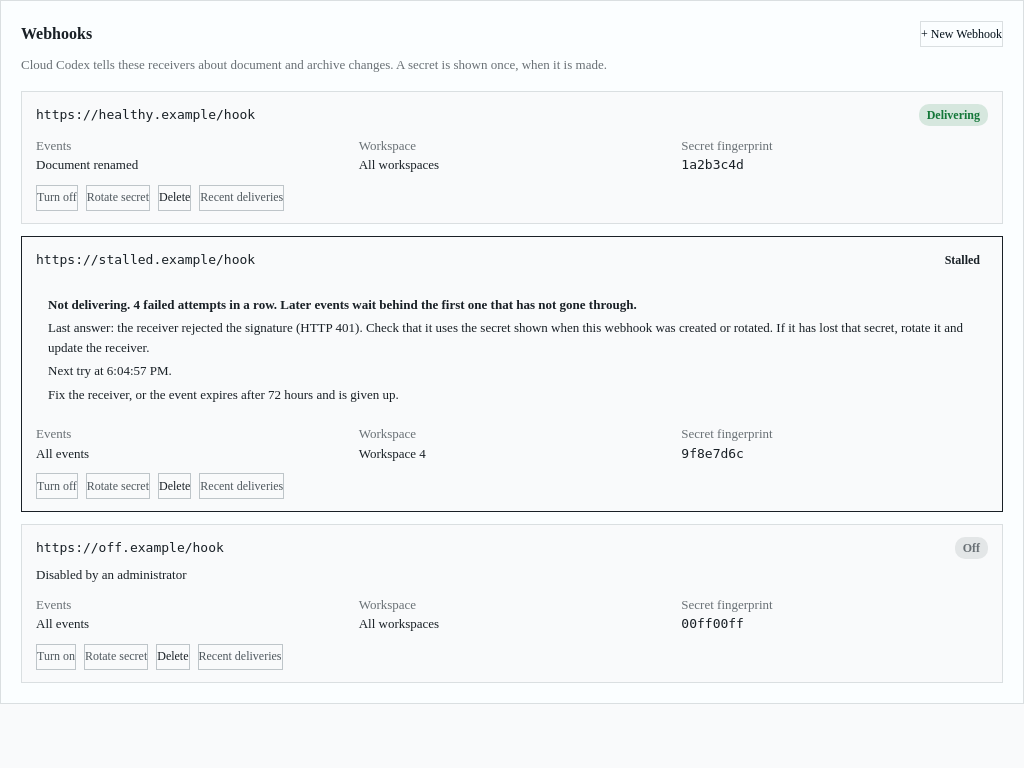
Test: WebhooksPanel: the server-decided expiry and the 404 path (W6-CDX-15 review) › pauses create and rotate while a secret is on screen, and resumes on Done
The width and height of the screenshot is (1024, 768).
Check: the text "https://healthy.example/hook" is shown, box [36,105,255,124]
Step 1. Click the button "+ New Webhook" → (962, 34), box [920,21,1003,47]
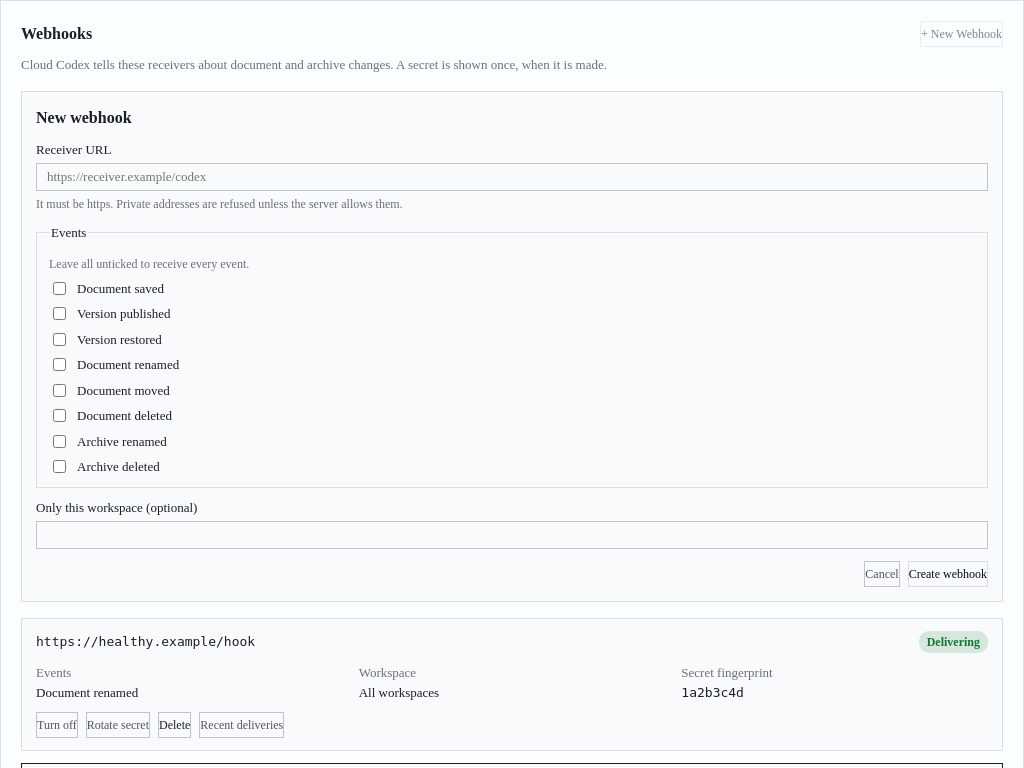
Step 2. Type "https://new.example/hook" into the field labelled "Receiver URL" → (512, 177), box [36,163,988,191]
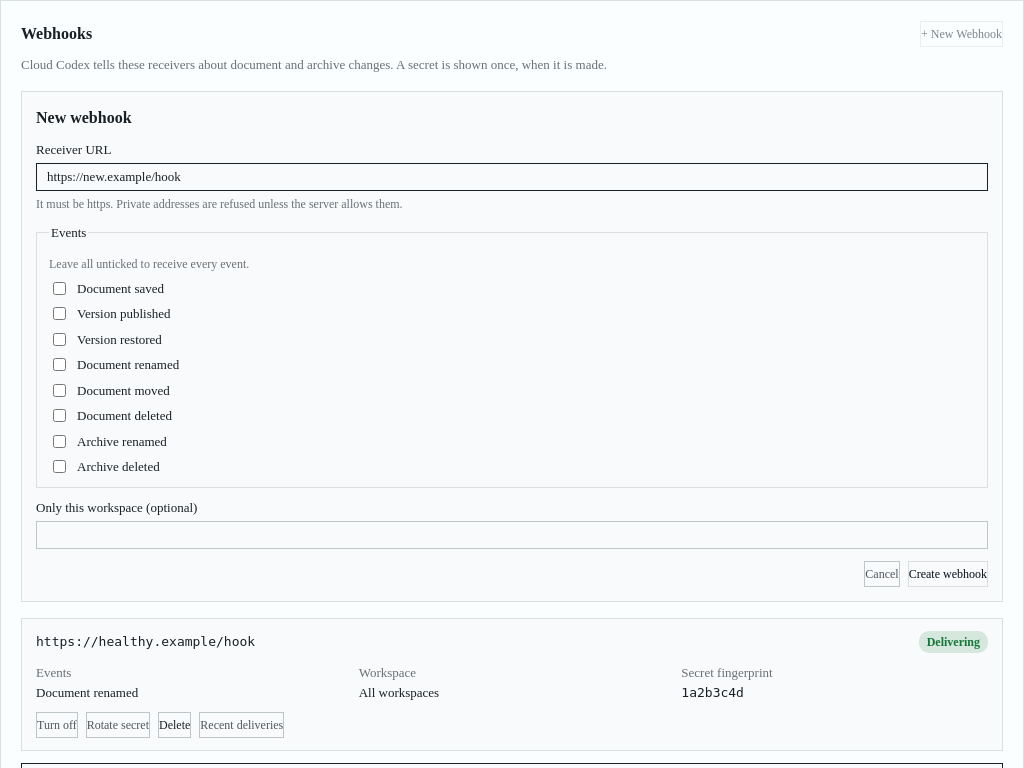
Step 3. Click the button "Create webhook" → (948, 574), box [908,561,988,587]
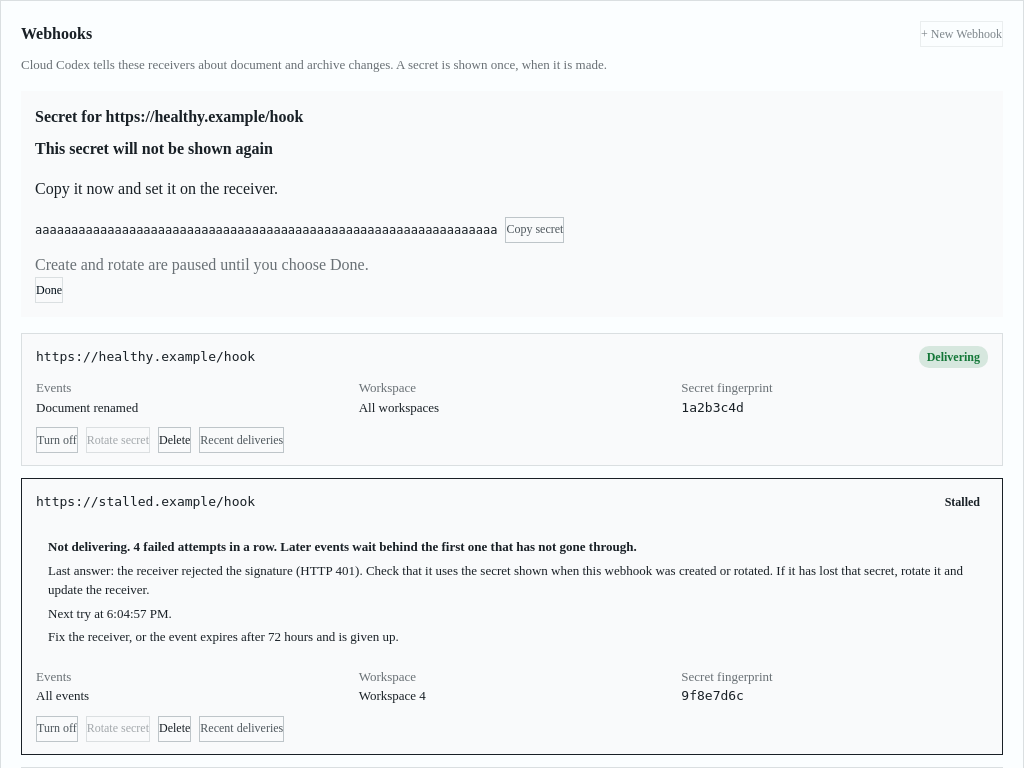
Check: the button "+ New Webhook" is disabled, box [920,21,1003,47]
Check: the text "aaaaaaaaaaaaaaaaaaaaaaaaaaaaaaaaaaaaaaaaaaaaaaaaaaaaaaaaaaaaaaaa" is shown, box [35,220,497,238]
Check: the button "Rotate secret" below "Document renamed" is disabled, box [86,427,150,453]
Step 4. Click the button "Done" → (49, 290), box [35,277,63,303]
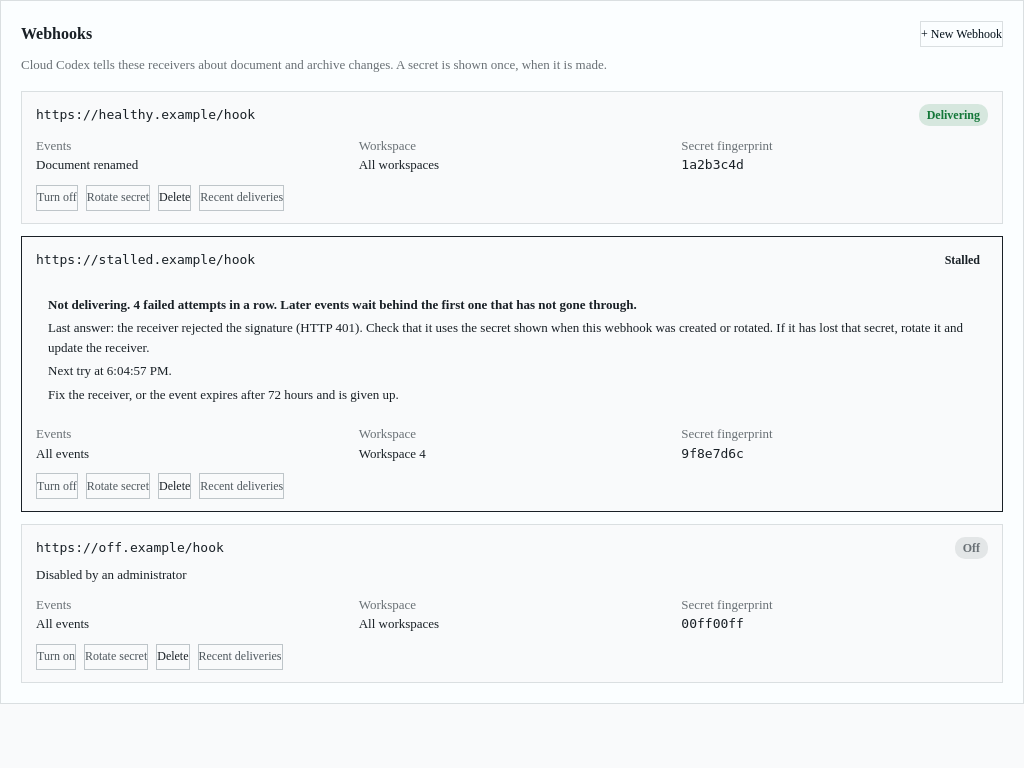
Check: the button "+ New Webhook" is enabled, box [920,21,1003,47]
Check: the button "Rotate secret" below "Document renamed" is enabled, box [86,184,150,210]
